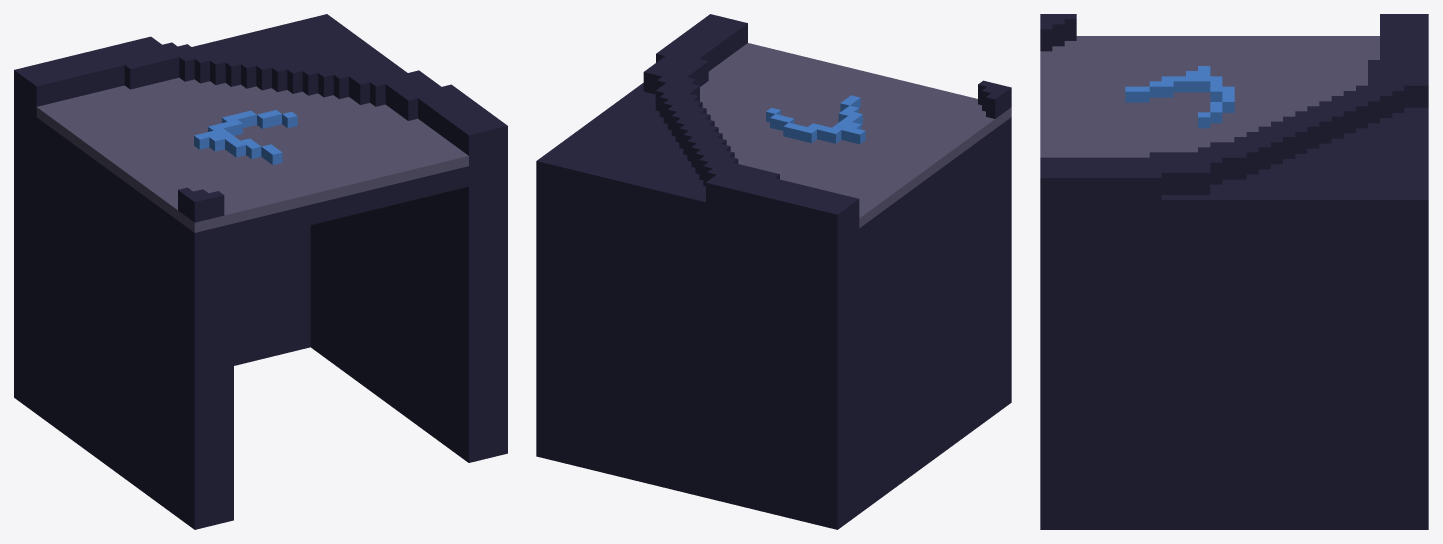
Rendered from CornerMediumConveyer.obj.
The picture shows the model from 3 angles, left to right: view 1: azimuth 30°, elevation 25°; view 2: azimuth 150°, elevation 25°; view 3: azimuth 270°, elevation 25°; orthographic projection. The views are drawn at different scales.
Bounding box in the file's own units: 3.2 × 3.2 × 3.2.
1 material, 1 textured.
